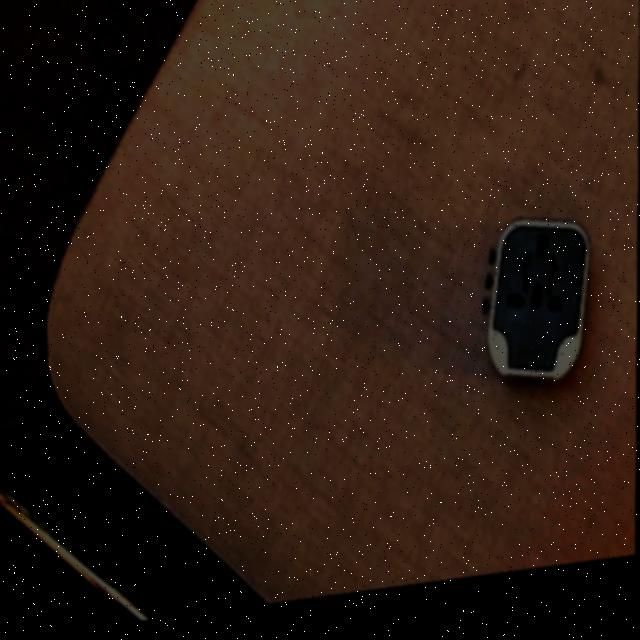adapter: (482, 224, 591, 404)
